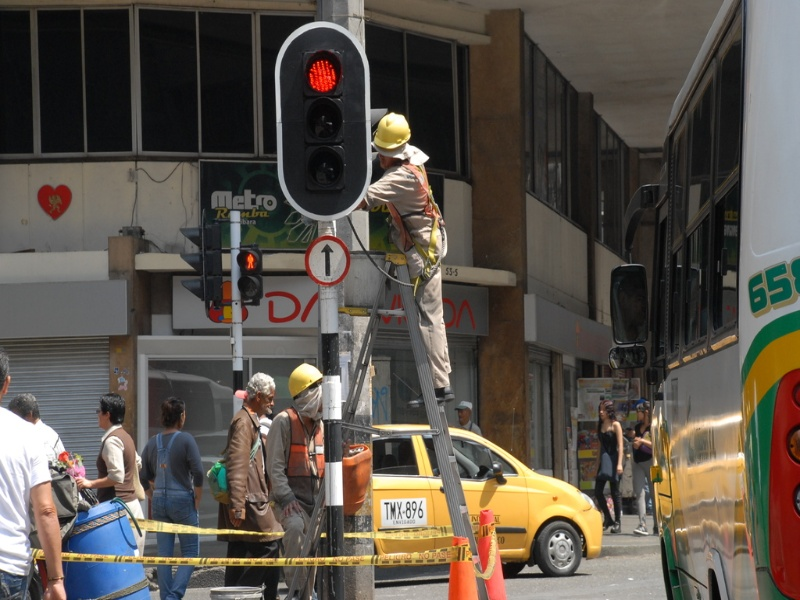red_light: (278, 19, 368, 154)
